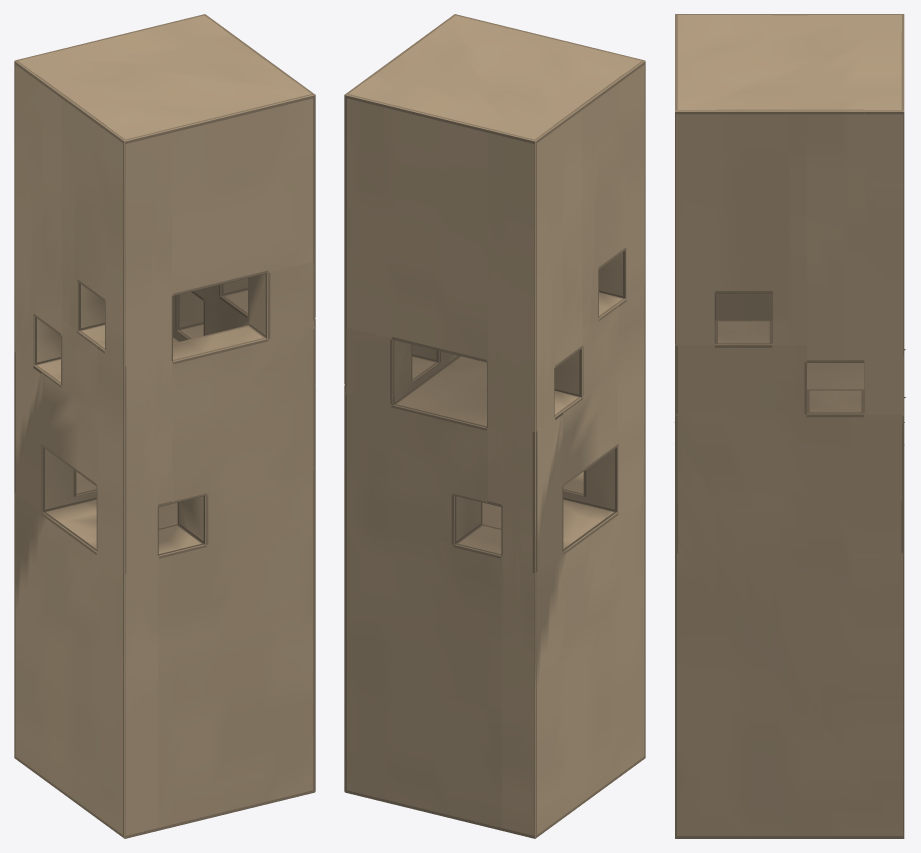
3 views of the same model, side by side, from view 1: azimuth 30°, elevation 25°; view 2: azimuth 150°, elevation 25°; view 3: azimuth 270°, elevation 25° (orthographic). The views are drawn at different scales.
Parts seen in each view (by area): view 1: part-a; view 2: part-a; view 3: part-a.
Part boxes in pixels (x1,y1,x2,y2): part-a: (14,14,315,838); part-a: (344,14,645,838); part-a: (674,14,905,838).
Size of the model in its own units: 0.1208 by 0.4208 by 0.1216.
